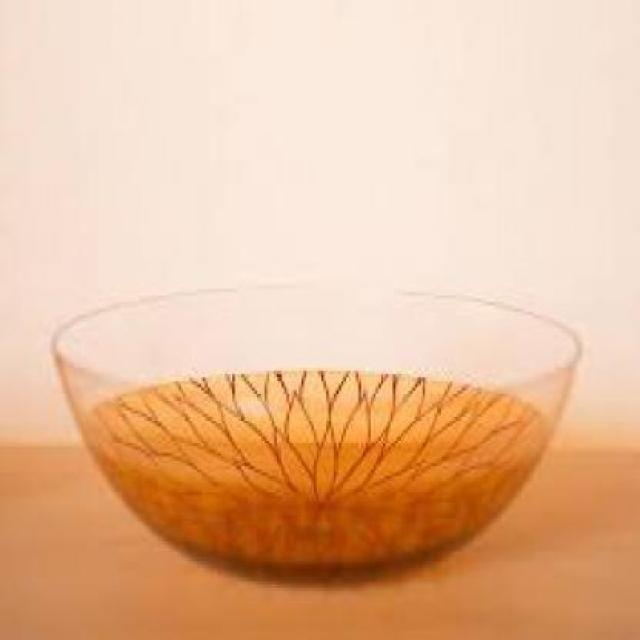kaca: (49, 278, 574, 582)
